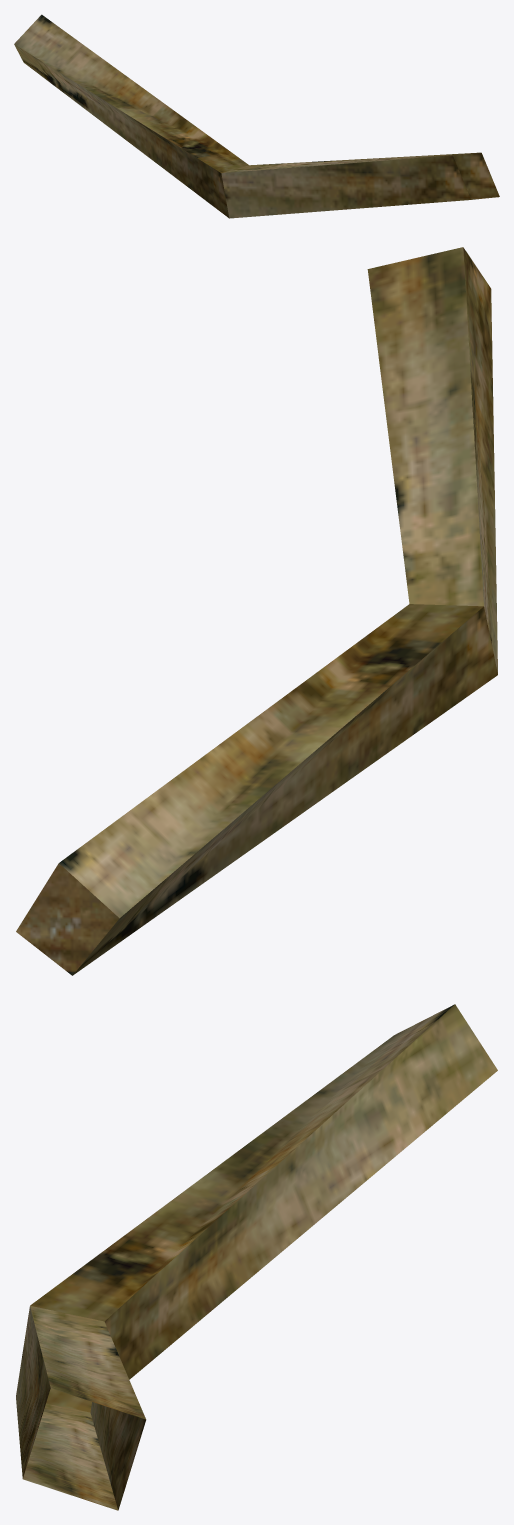
File: bark.glb
3 renders of one model, top to bottom at view 1: azimuth 30°, elevation 25°; view 2: azimuth 150°, elevation 25°; view 3: azimuth 330°, elevation 25°, orthographic. The views are drawn at different scales.
Visible parts, largest first — view 1: bark-col; view 2: bark-col; view 3: bark-col.
Part boxes in pixels (bbox=[...]): bark-col: bbox=[14, 14, 499, 218]; bark-col: bbox=[16, 247, 497, 975]; bark-col: bbox=[16, 1004, 497, 1510].
Size of the model in its own units: 0.1772 by 0.1095 by 0.5802.
Materials: 1 (1 with a texture image).
